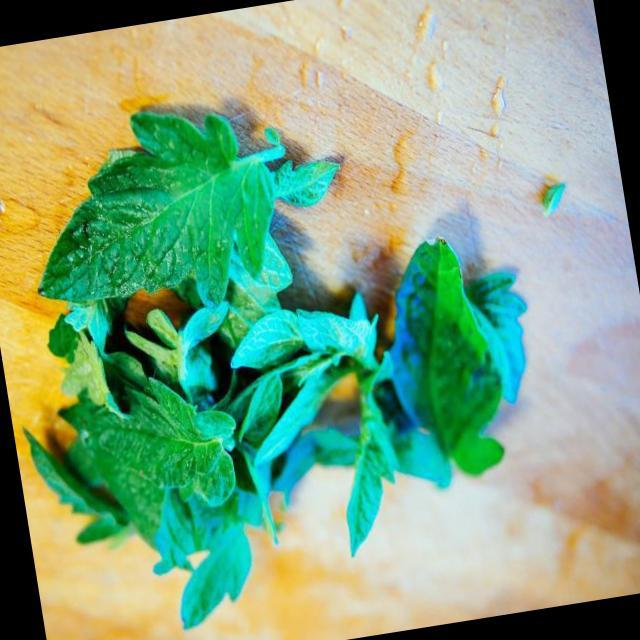Healthy Leaf: (10, 71, 292, 316), (360, 200, 506, 496), (54, 358, 258, 522)
